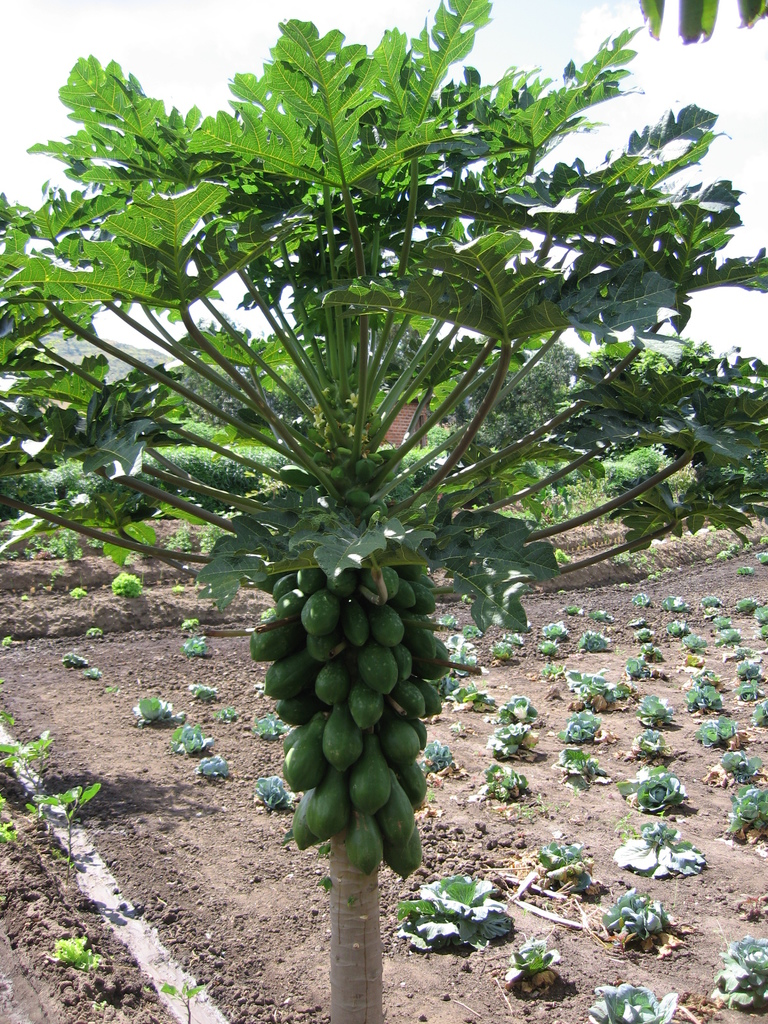Tree: (0, 0, 768, 1024), (0, 309, 768, 519)
